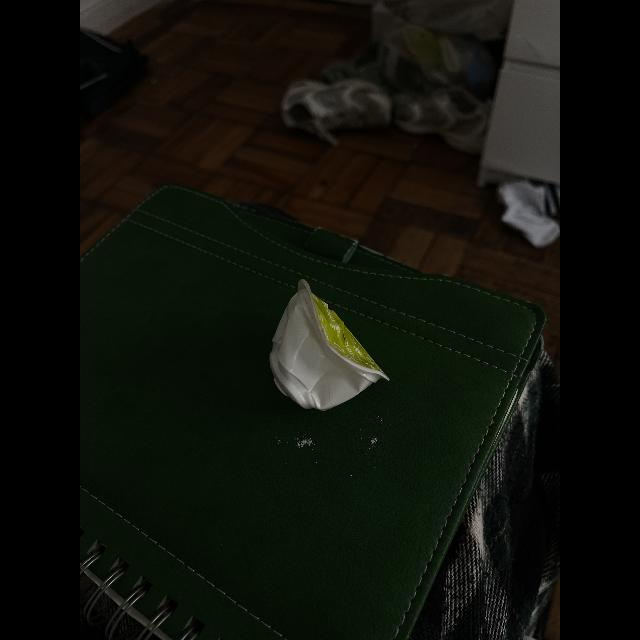damaged_capsule: (262, 270, 402, 416)
